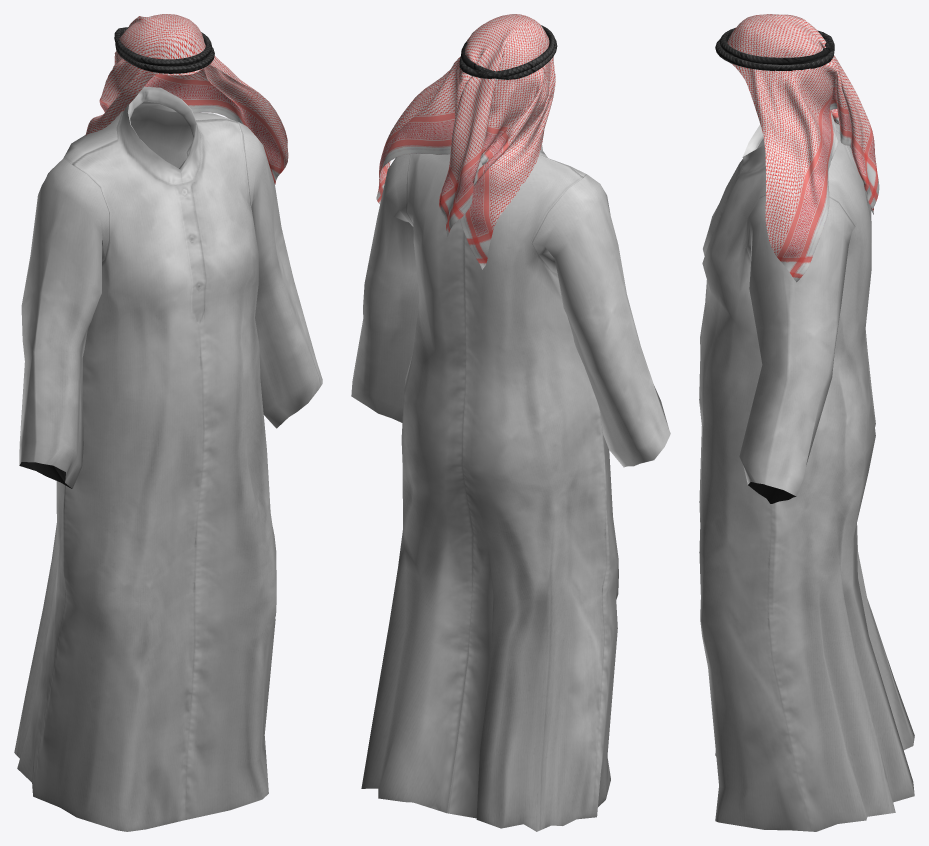
The model's file is Galabya (1).fbx.
3 renders of one model, left to right at view 1: azimuth 30°, elevation 25°; view 2: azimuth 150°, elevation 25°; view 3: azimuth 270°, elevation 25°, orthographic.
Parts seen in each view (by area): view 1: ARMan0001-Mesh001, ARMan0001-Ghutra001, Object001; view 2: ARMan0001-Mesh001, ARMan0001-Ghutra001, Object001; view 3: ARMan0001-Mesh001, ARMan0001-Ghutra001, Object001.
Part boxes in pixels (x1,y1,x2,y2): ARMan0001-Mesh001: (14, 86, 322, 831); ARMan0001-Ghutra001: (85, 14, 288, 184); Object001: (114, 27, 214, 73); ARMan0001-Mesh001: (351, 145, 670, 831); ARMan0001-Ghutra001: (376, 14, 555, 269); Object001: (459, 25, 557, 79); ARMan0001-Mesh001: (699, 121, 914, 831); ARMan0001-Ghutra001: (727, 14, 879, 282); Object001: (715, 27, 834, 70).
Bounding box in the file's own units: 0.7026 × 1.73 × 0.4331.
